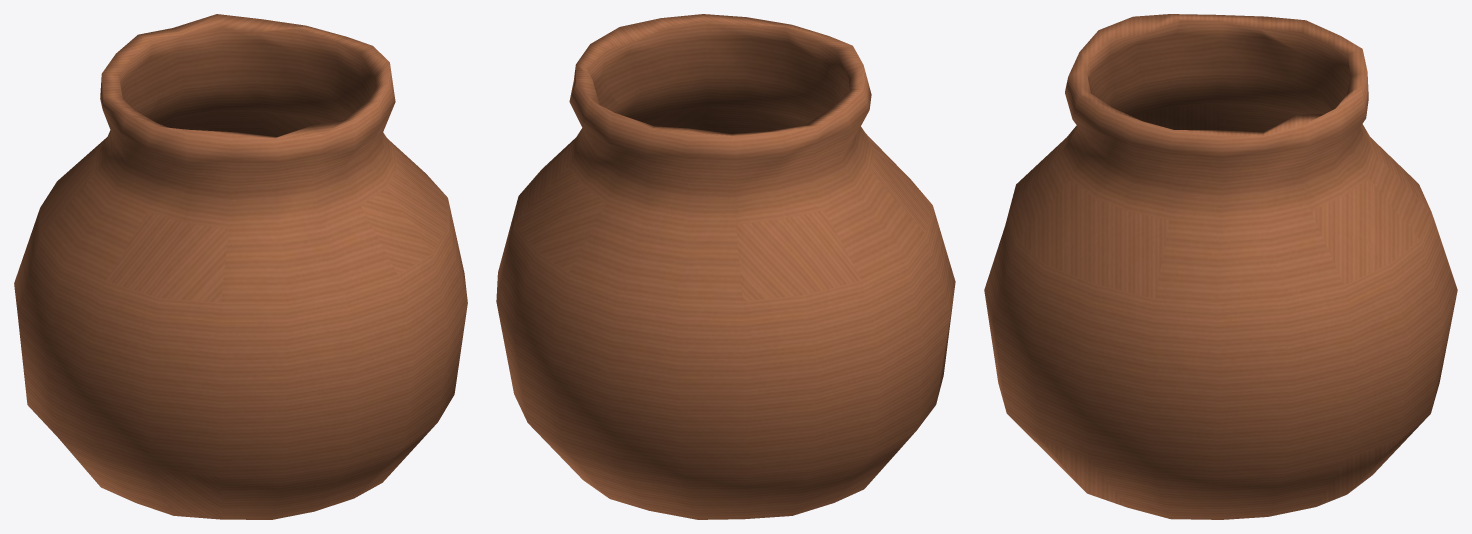
The model's file is squat.glb.
3 views of the same model, side by side, from view 1: azimuth 30°, elevation 25°; view 2: azimuth 150°, elevation 25°; view 3: azimuth 270°, elevation 25° (orthographic). The views are drawn at different scales.
Visible parts, largest first — view 1: squat; view 2: squat; view 3: squat.
Part boxes in pixels (bbox=[...]): squat: bbox=[14, 14, 467, 519]; squat: bbox=[496, 14, 955, 519]; squat: bbox=[984, 14, 1457, 519].
Size of the model in its own units: 0.5418 by 0.5264 by 0.5449.
Materials: 1 (1 with a texture image).
